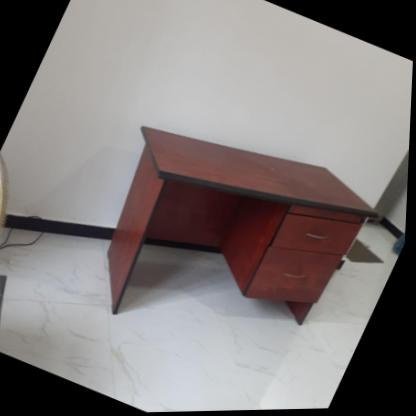Table: (52, 81, 405, 403)
